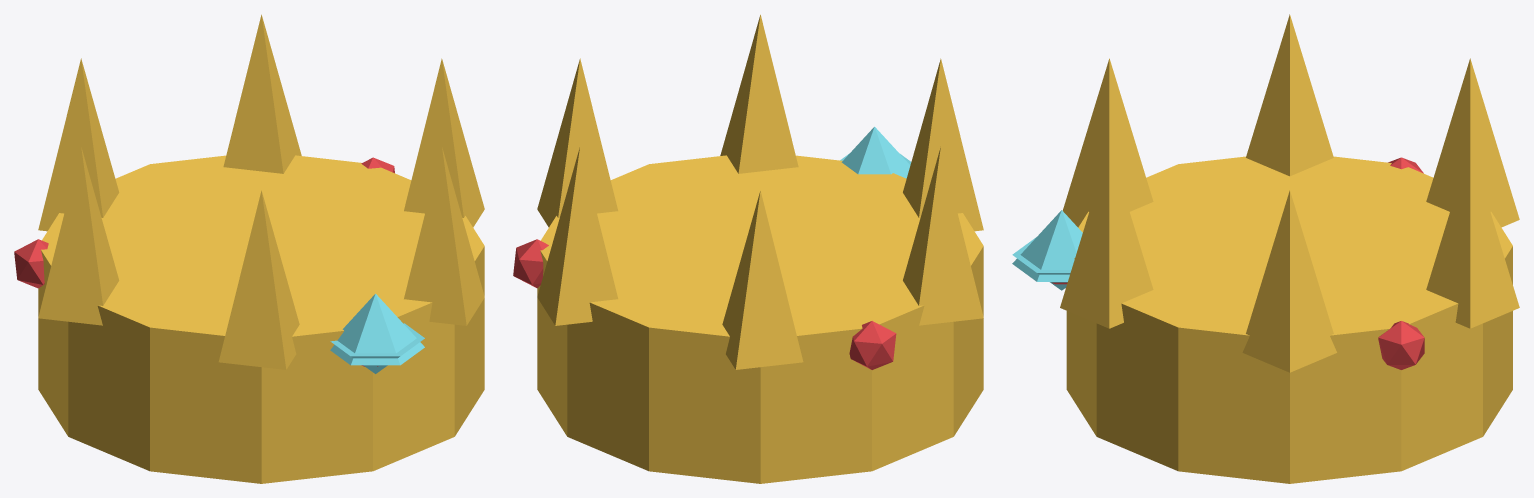
File: SM_Product_Crown.fbx
The picture shows the model from 3 angles, left to right: view 1: azimuth 30°, elevation 25°; view 2: azimuth 150°, elevation 25°; view 3: azimuth 270°, elevation 25°; orthographic projection.
Visible parts, largest first — view 1: SM_Product_Crown; view 2: SM_Product_Crown; view 3: SM_Product_Crown.
Part boxes in pixels (bbox=[...]): SM_Product_Crown: bbox=[14, 14, 484, 483]; SM_Product_Crown: bbox=[513, 14, 983, 483]; SM_Product_Crown: bbox=[1012, 14, 1519, 483].
Bounding box in the file's own units: 1.04 × 0.64 × 1.02.
